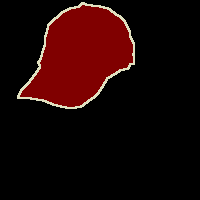hat: (18, 3, 134, 108)
